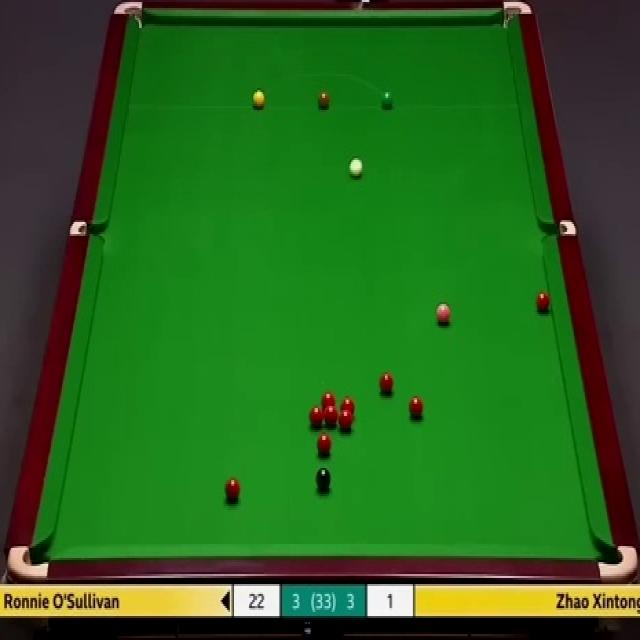pocket: (7, 543, 50, 582), (595, 543, 636, 580), (500, 0, 534, 32), (111, 0, 145, 29), (68, 217, 107, 237), (541, 218, 575, 237)
